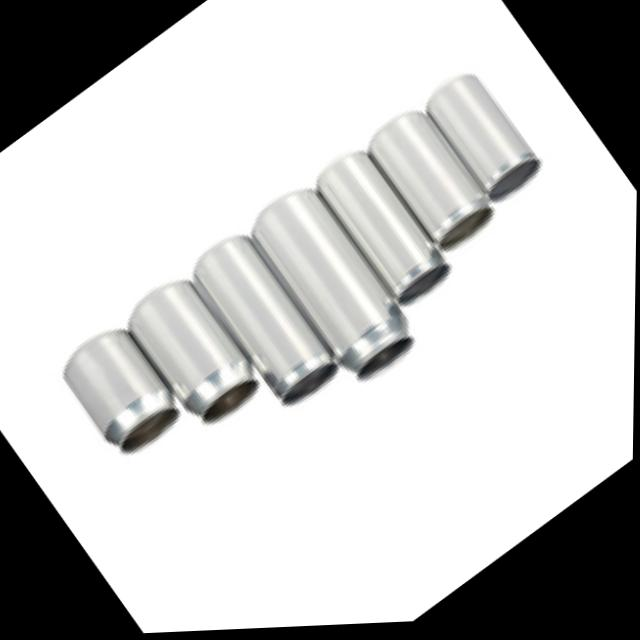aluminum_soda_cans: (245, 180, 428, 397), (188, 225, 348, 415), (310, 141, 466, 328), (366, 106, 511, 275), (121, 267, 268, 432), (424, 66, 561, 230), (57, 313, 193, 460)
